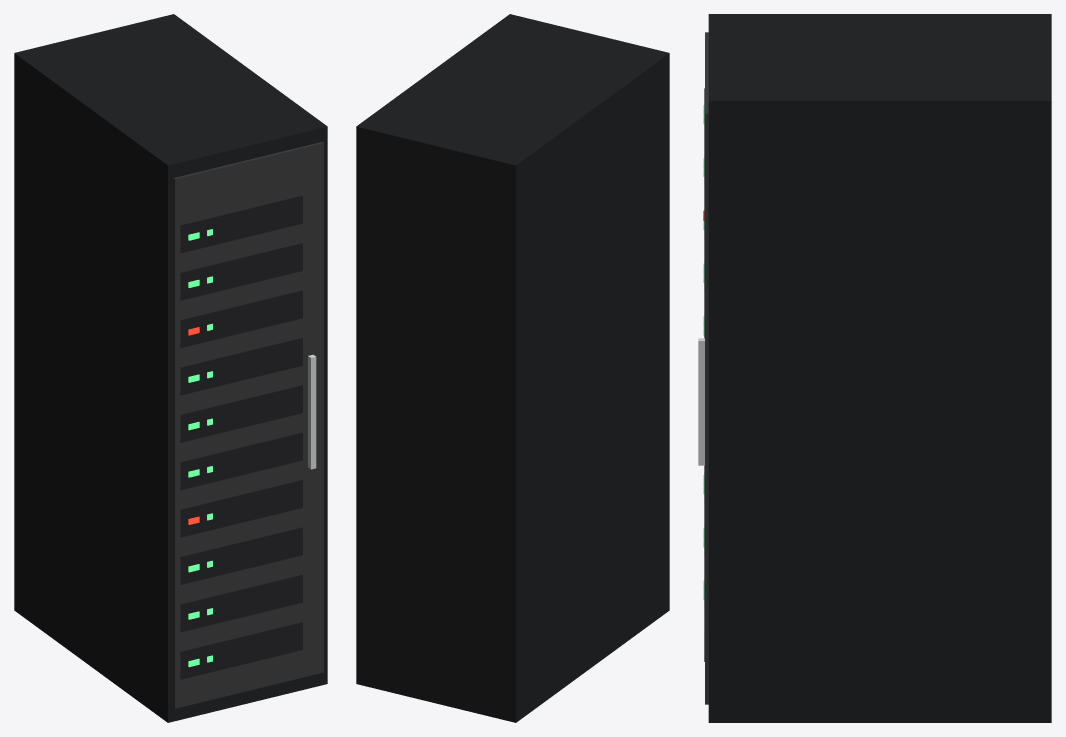
The model's file is server_rack.glb.
The picture shows the model from 3 angles, left to right: view 1: azimuth 30°, elevation 25°; view 2: azimuth 150°, elevation 25°; view 3: azimuth 270°, elevation 25°; orthographic projection. The views are drawn at different scales.
Parts seen in each view (by area): view 1: server_rack; view 2: server_rack; view 3: server_rack.
Part boxes in pixels (x1,y1,x2,y2): server_rack: (14, 14, 327, 722); server_rack: (356, 14, 669, 722); server_rack: (698, 14, 1051, 722).
Bounding box in the file's own units: 0.6 × 2 × 1.03.
Materials: 1 (1 with a texture image).
